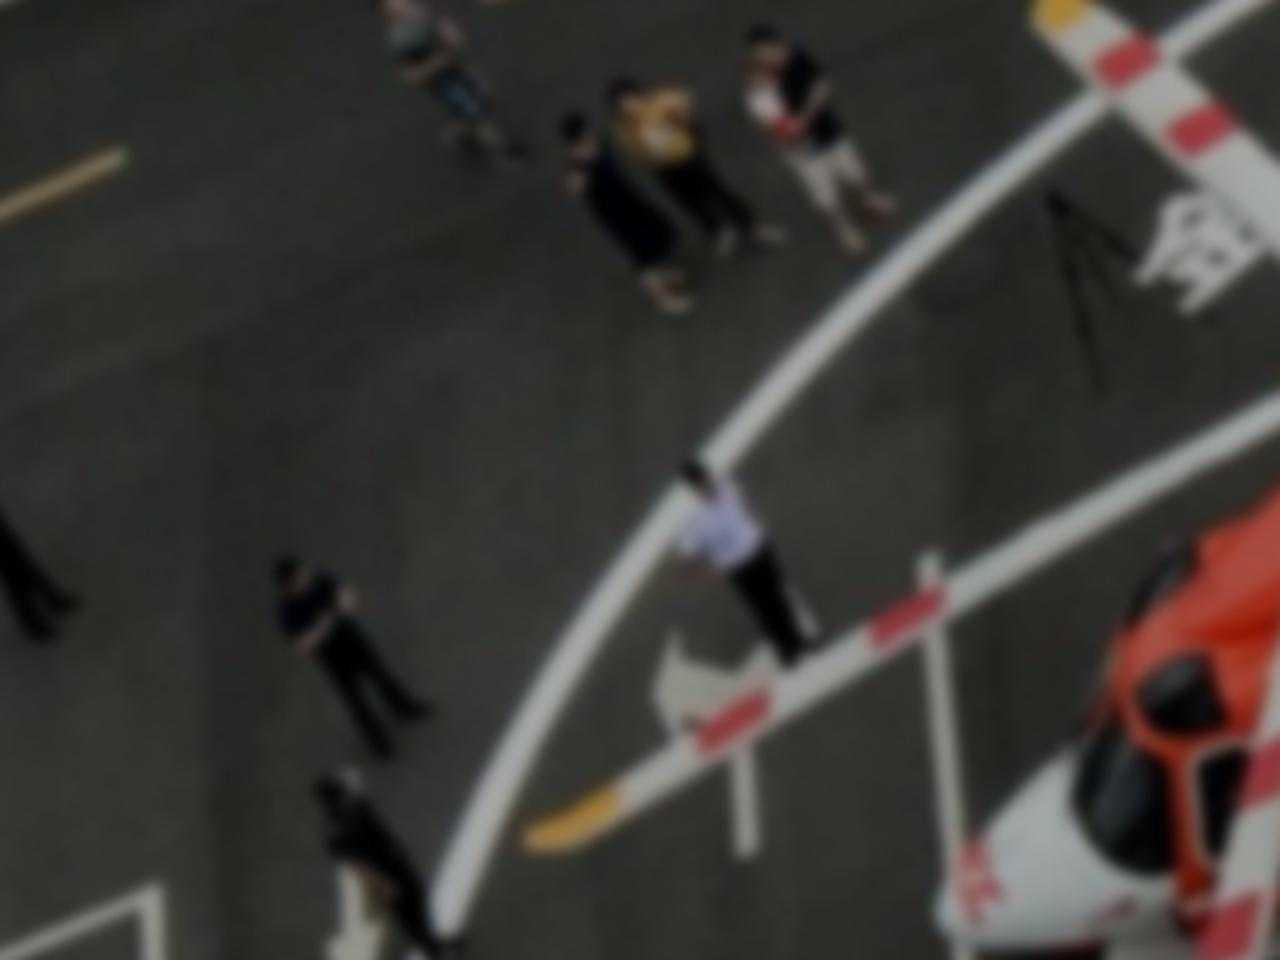Apron: (370, 9, 1280, 960)
